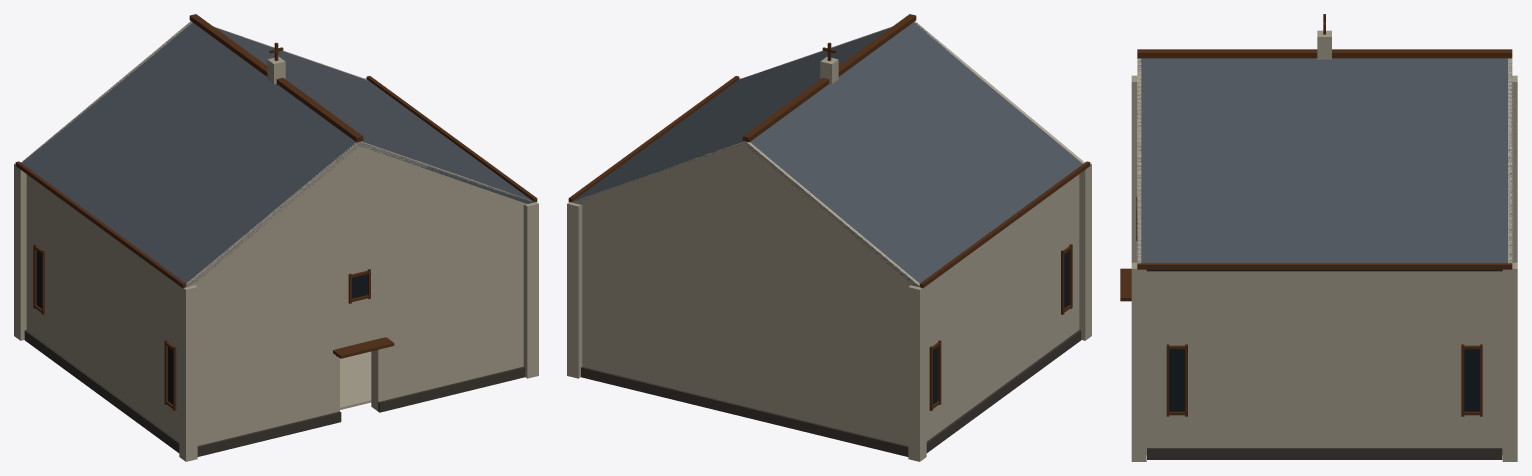
File: chapel.glb
The picture shows the model from 3 angles, left to right: view 1: azimuth 30°, elevation 25°; view 2: azimuth 150°, elevation 25°; view 3: azimuth 270°, elevation 25°; orthographic projection. The views are drawn at different scales.
Visible parts, largest first — view 1: chapel_limestone, chapel_slate, chapel_timber, chapel_plinth, chapel_glass; view 2: chapel_limestone, chapel_slate, chapel_plinth, chapel_timber, chapel_glass; view 3: chapel_slate, chapel_limestone, chapel_timber, chapel_plinth, chapel_glass.
Boxes of the visible parts, left/top/right/bottom form: chapel_limestone: left=14, top=21, right=538, bottom=461; chapel_slate: left=21, top=22, right=533, bottom=286; chapel_timber: left=15, top=14, right=537, bottom=410; chapel_plinth: left=24, top=330, right=524, bottom=456; chapel_glass: left=36, top=251, right=367, bottom=404; chapel_limestone: left=567, top=21, right=1091, bottom=461; chapel_slate: left=572, top=21, right=1082, bottom=286; chapel_plinth: left=581, top=330, right=1081, bottom=456; chapel_timber: left=568, top=14, right=1090, bottom=410; chapel_glass: left=933, top=251, right=1069, bottom=404; chapel_slate: left=1137, top=58, right=1512, bottom=271; chapel_limestone: left=1131, top=30, right=1517, bottom=461; chapel_timber: left=1120, top=14, right=1512, bottom=416; chapel_plinth: left=1147, top=448, right=1502, bottom=459; chapel_glass: left=1169, top=349, right=1479, bottom=411.
Bounding box in the file's own units: 12.92 × 10.9 × 11.19.
